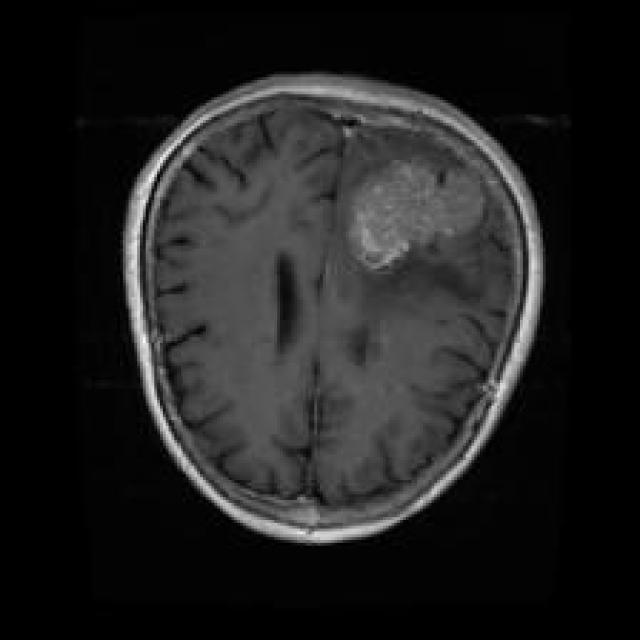meningioma_tumor: (331, 142, 506, 283)
